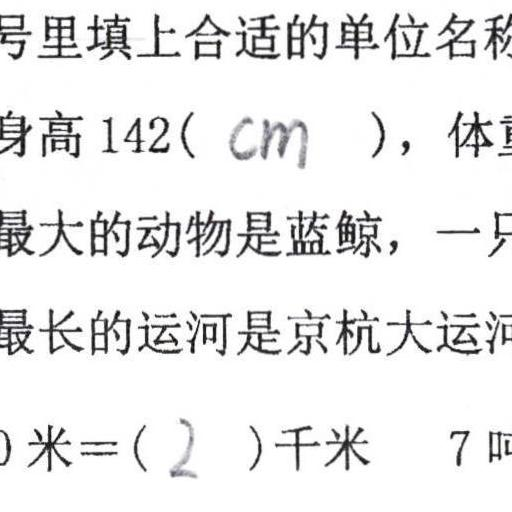ans: (224, 107, 311, 170), (161, 408, 203, 480)
